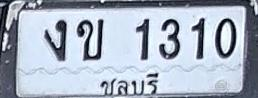0: (215, 17, 236, 58)
1: (191, 17, 205, 59), (135, 18, 149, 60)
3: (158, 18, 180, 59)
A02: (76, 18, 104, 60)
A07: (44, 19, 67, 61)
CBI: (96, 69, 163, 97)
